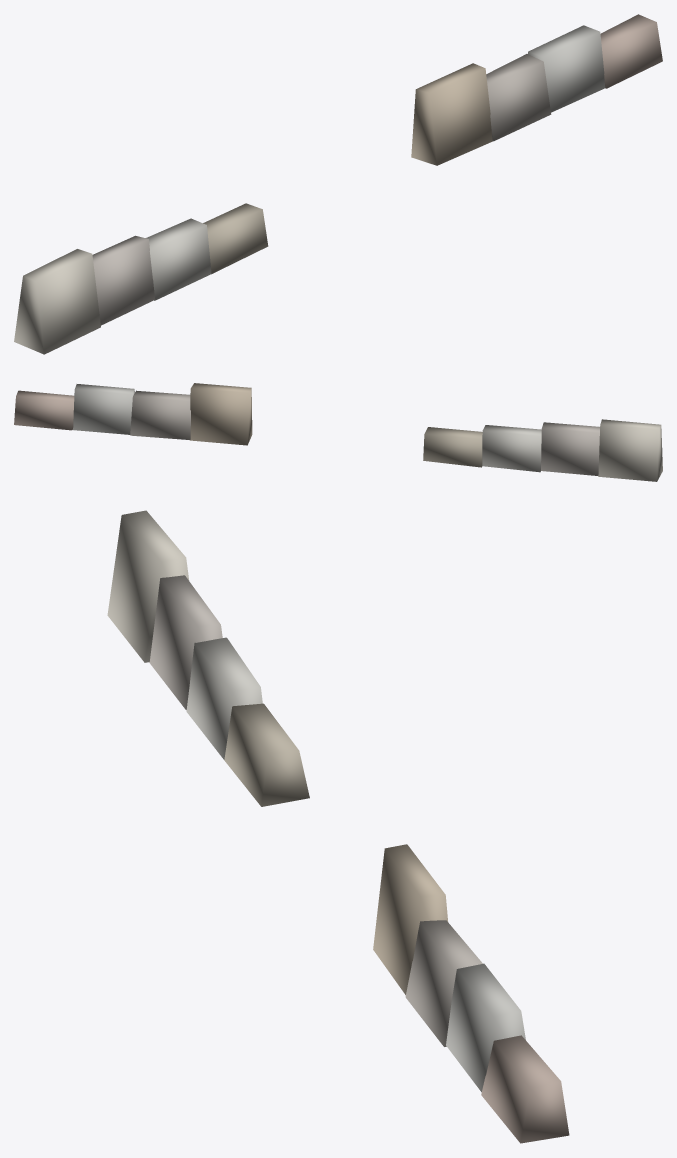
The model's file is farm_-30_-42_far.glb.
The picture shows the model from 3 angles, top to bottom: view 1: azimuth 30°, elevation 25°; view 2: azimuth 150°, elevation 25°; view 3: azimuth 270°, elevation 25°; orthographic projection. The views are drawn at different scales.
Visible parts, largest first — view 1: geometry_0; view 2: geometry_0; view 3: geometry_0.
Part boxes in pixels (x1,y1,x2,y2): geometry_0: (14,14,662,354); geometry_0: (14,383,662,481); geometry_0: (107,510,569,1143).
Size of the model in its own units: 16.46 by 1.46 by 6.
